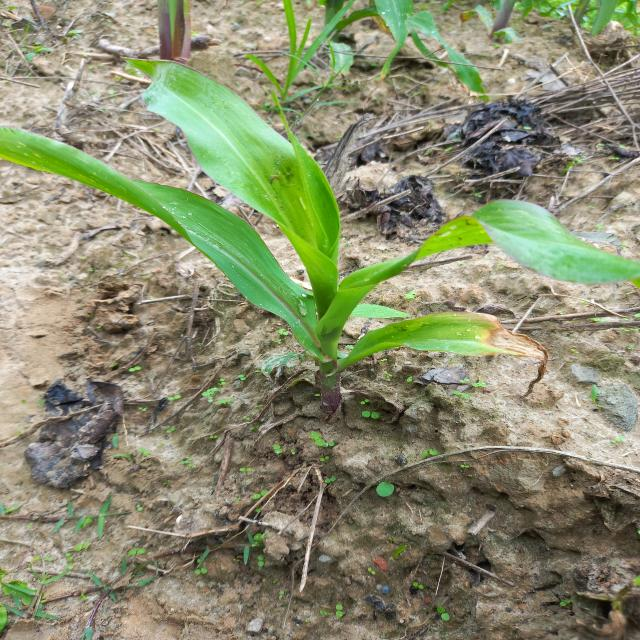weed: (0, 70, 640, 444), (302, 0, 500, 88), (215, 0, 347, 102), (0, 552, 95, 636), (120, 0, 209, 59), (52, 502, 150, 538), (494, 0, 525, 60), (374, 471, 404, 502)
